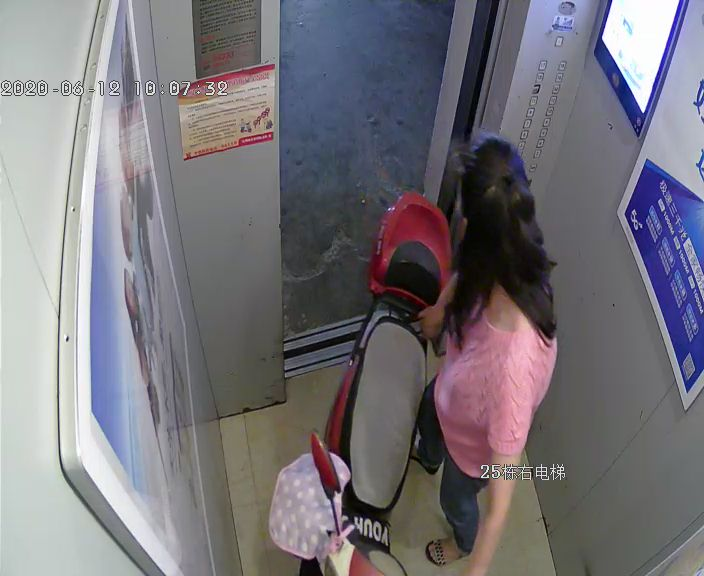Electric-bicycle: (310, 193, 451, 576)
